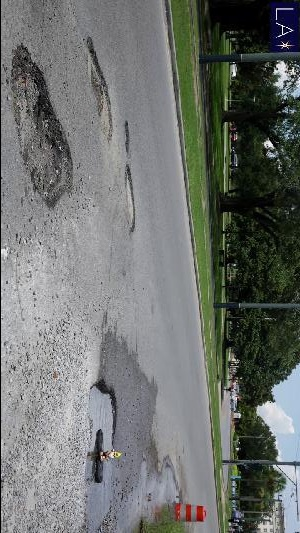pothole: (7, 42, 75, 209), (81, 377, 121, 533), (83, 35, 114, 143), (125, 163, 136, 233), (123, 118, 131, 153)
